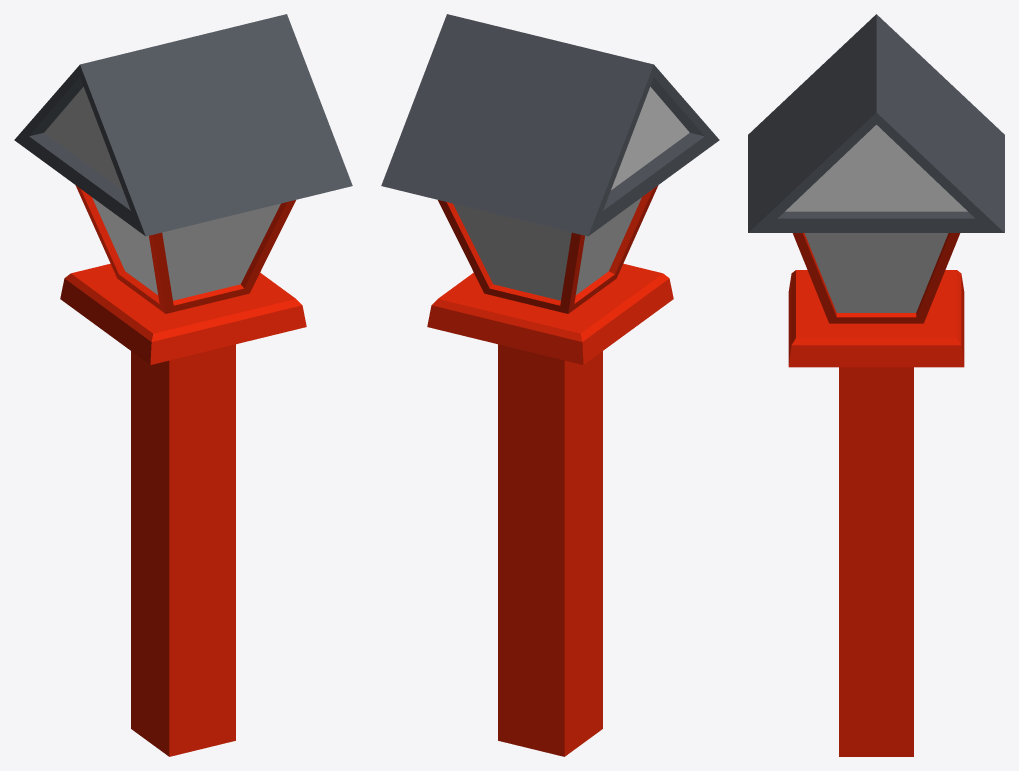
File: Lamp_5.fbx
3 renders of one model, left to right at view 1: azimuth 30°, elevation 25°; view 2: azimuth 150°, elevation 25°; view 3: azimuth 270°, elevation 25°, orthographic. The views are drawn at different scales.
Visible parts, largest first — view 1: Lamp_5; view 2: Lamp_5; view 3: Lamp_5.
Part boxes in pixels (bbox=[...]): Lamp_5: bbox=[14, 14, 352, 756]; Lamp_5: bbox=[381, 14, 719, 756]; Lamp_5: bbox=[748, 14, 1004, 756].
Size of the model in its own units: 20.31 by 65.23 by 22.38.
